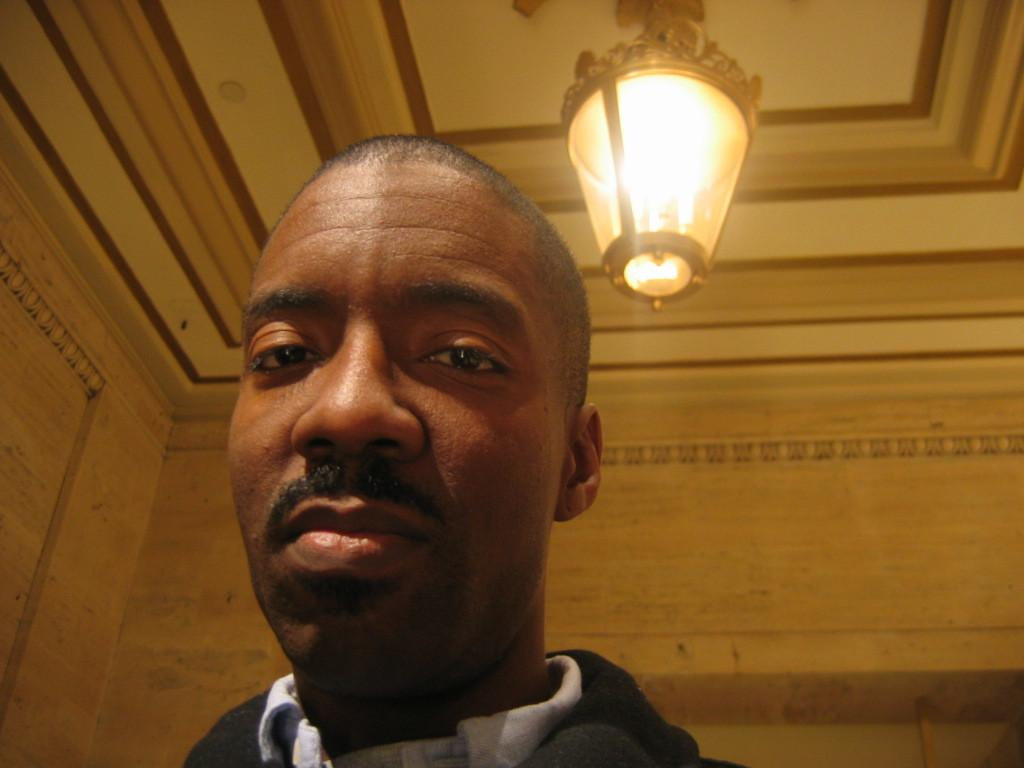Sem Máscara: (225, 164, 566, 677)
